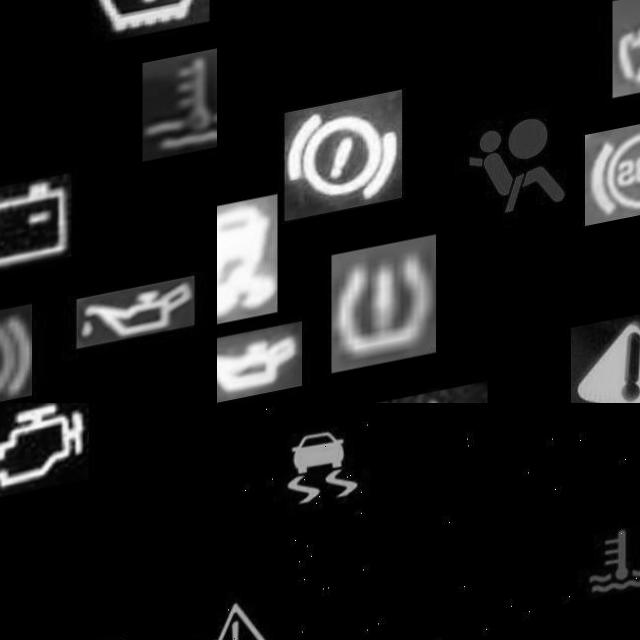Central Warning lamp: (571, 326, 640, 403)
Engine cooling system: (142, 56, 217, 174)
